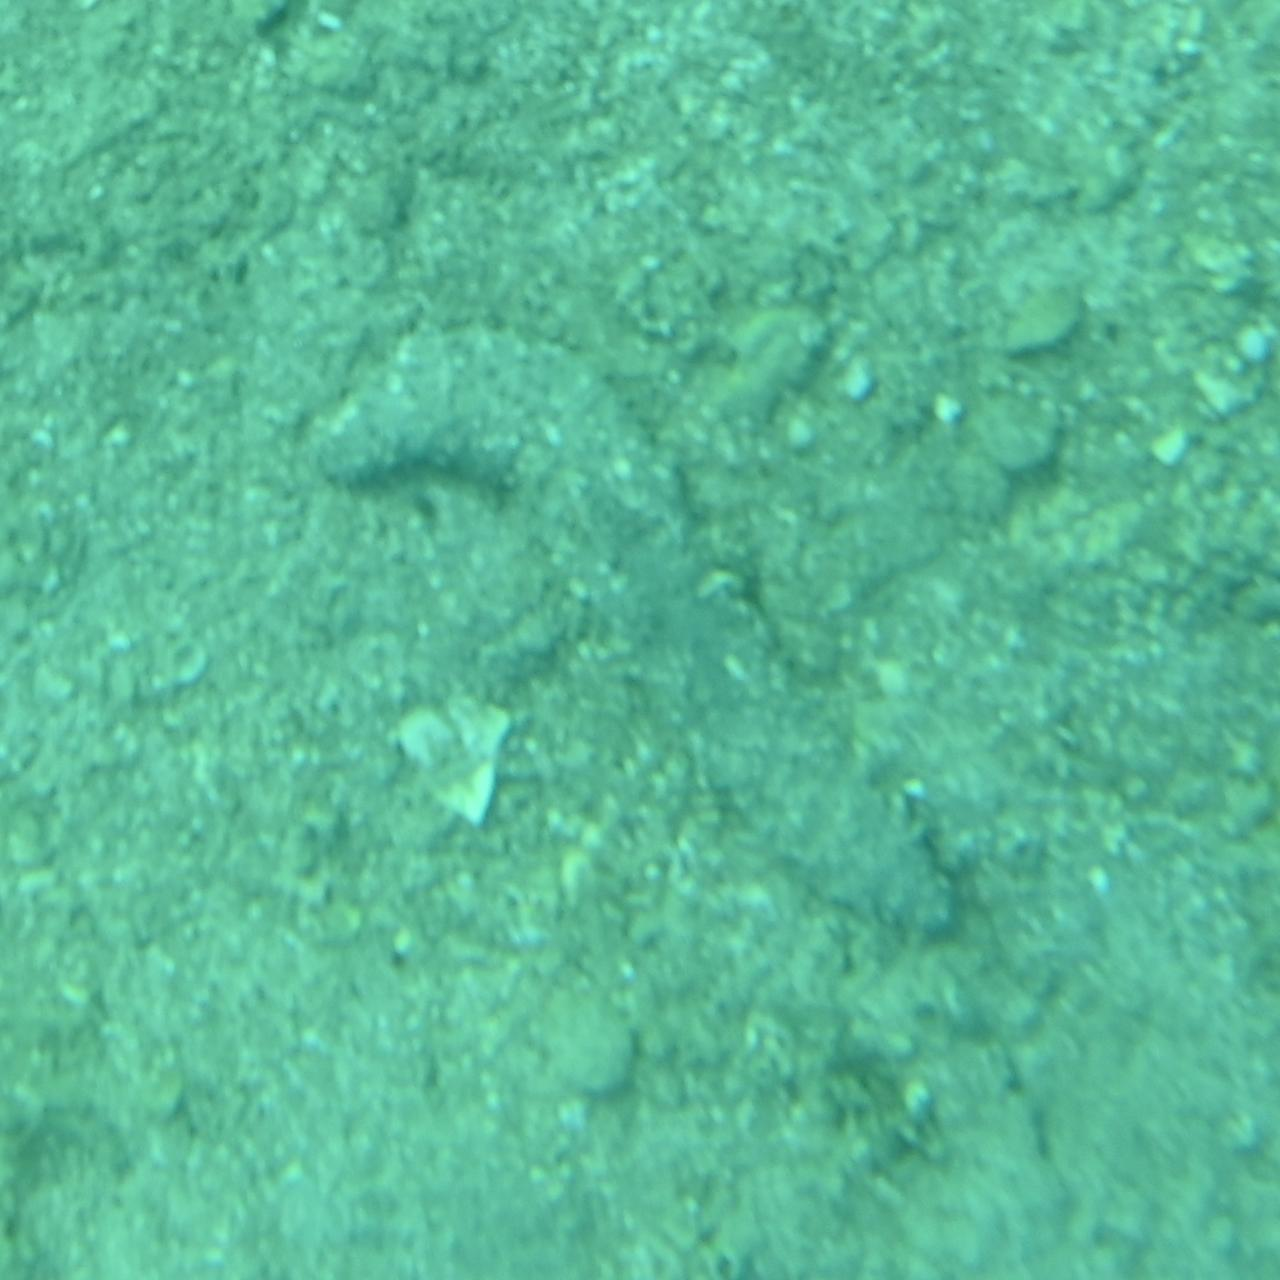Holothuria tubulosa: (302, 314, 978, 966)
